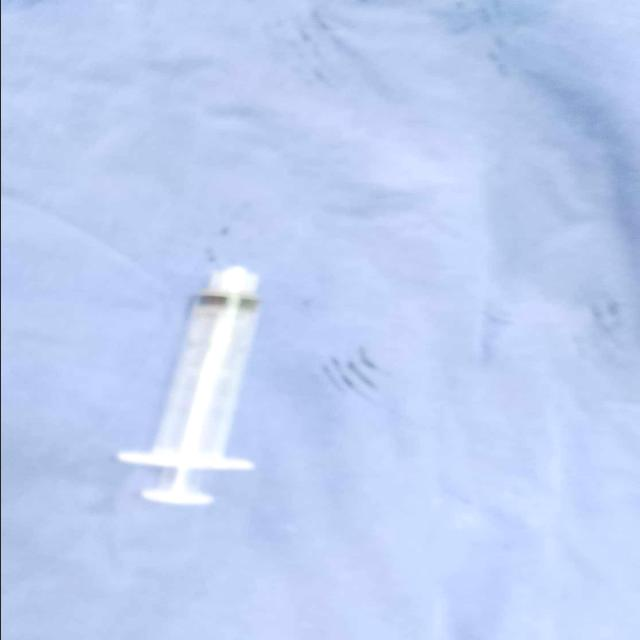General: (6, 2, 636, 636)
Sharps: (114, 266, 264, 506)
